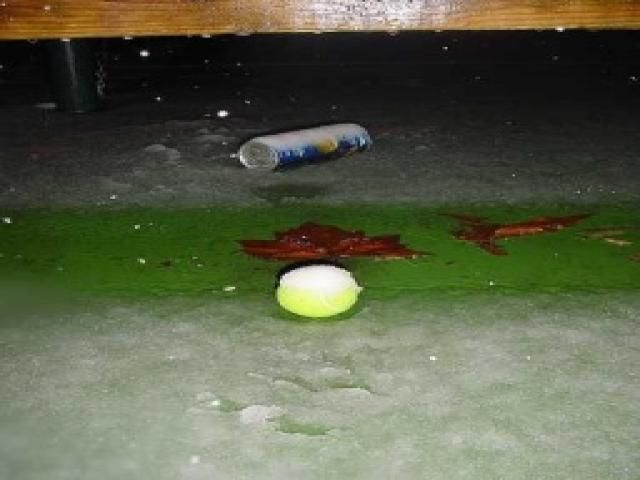tennis-ball: (275, 270, 359, 318)
